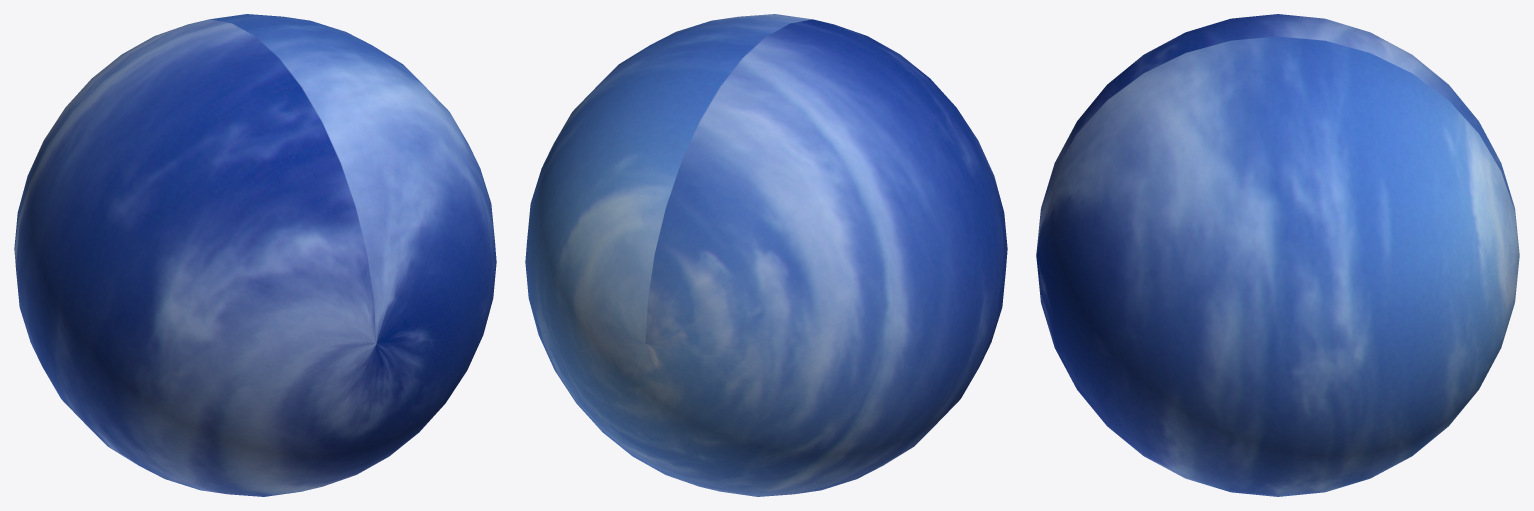
The model's file is result_stage.fbx.
3 renders of one model, left to right at view 1: azimuth 30°, elevation 25°; view 2: azimuth 150°, elevation 25°; view 3: azimuth 270°, elevation 25°, orthographic.
Visible parts, largest first — view 1: Sphere001; view 2: Sphere001; view 3: Sphere001.
Part boxes in pixels (<box>): Sphere001: <box>14,14,496,496</box>; Sphere001: <box>525,14,1007,496</box>; Sphere001: <box>1036,14,1519,496</box>.
Size of the model in its own units: 657 by 657 by 657.
Materials: 2 (2 with a texture image).
